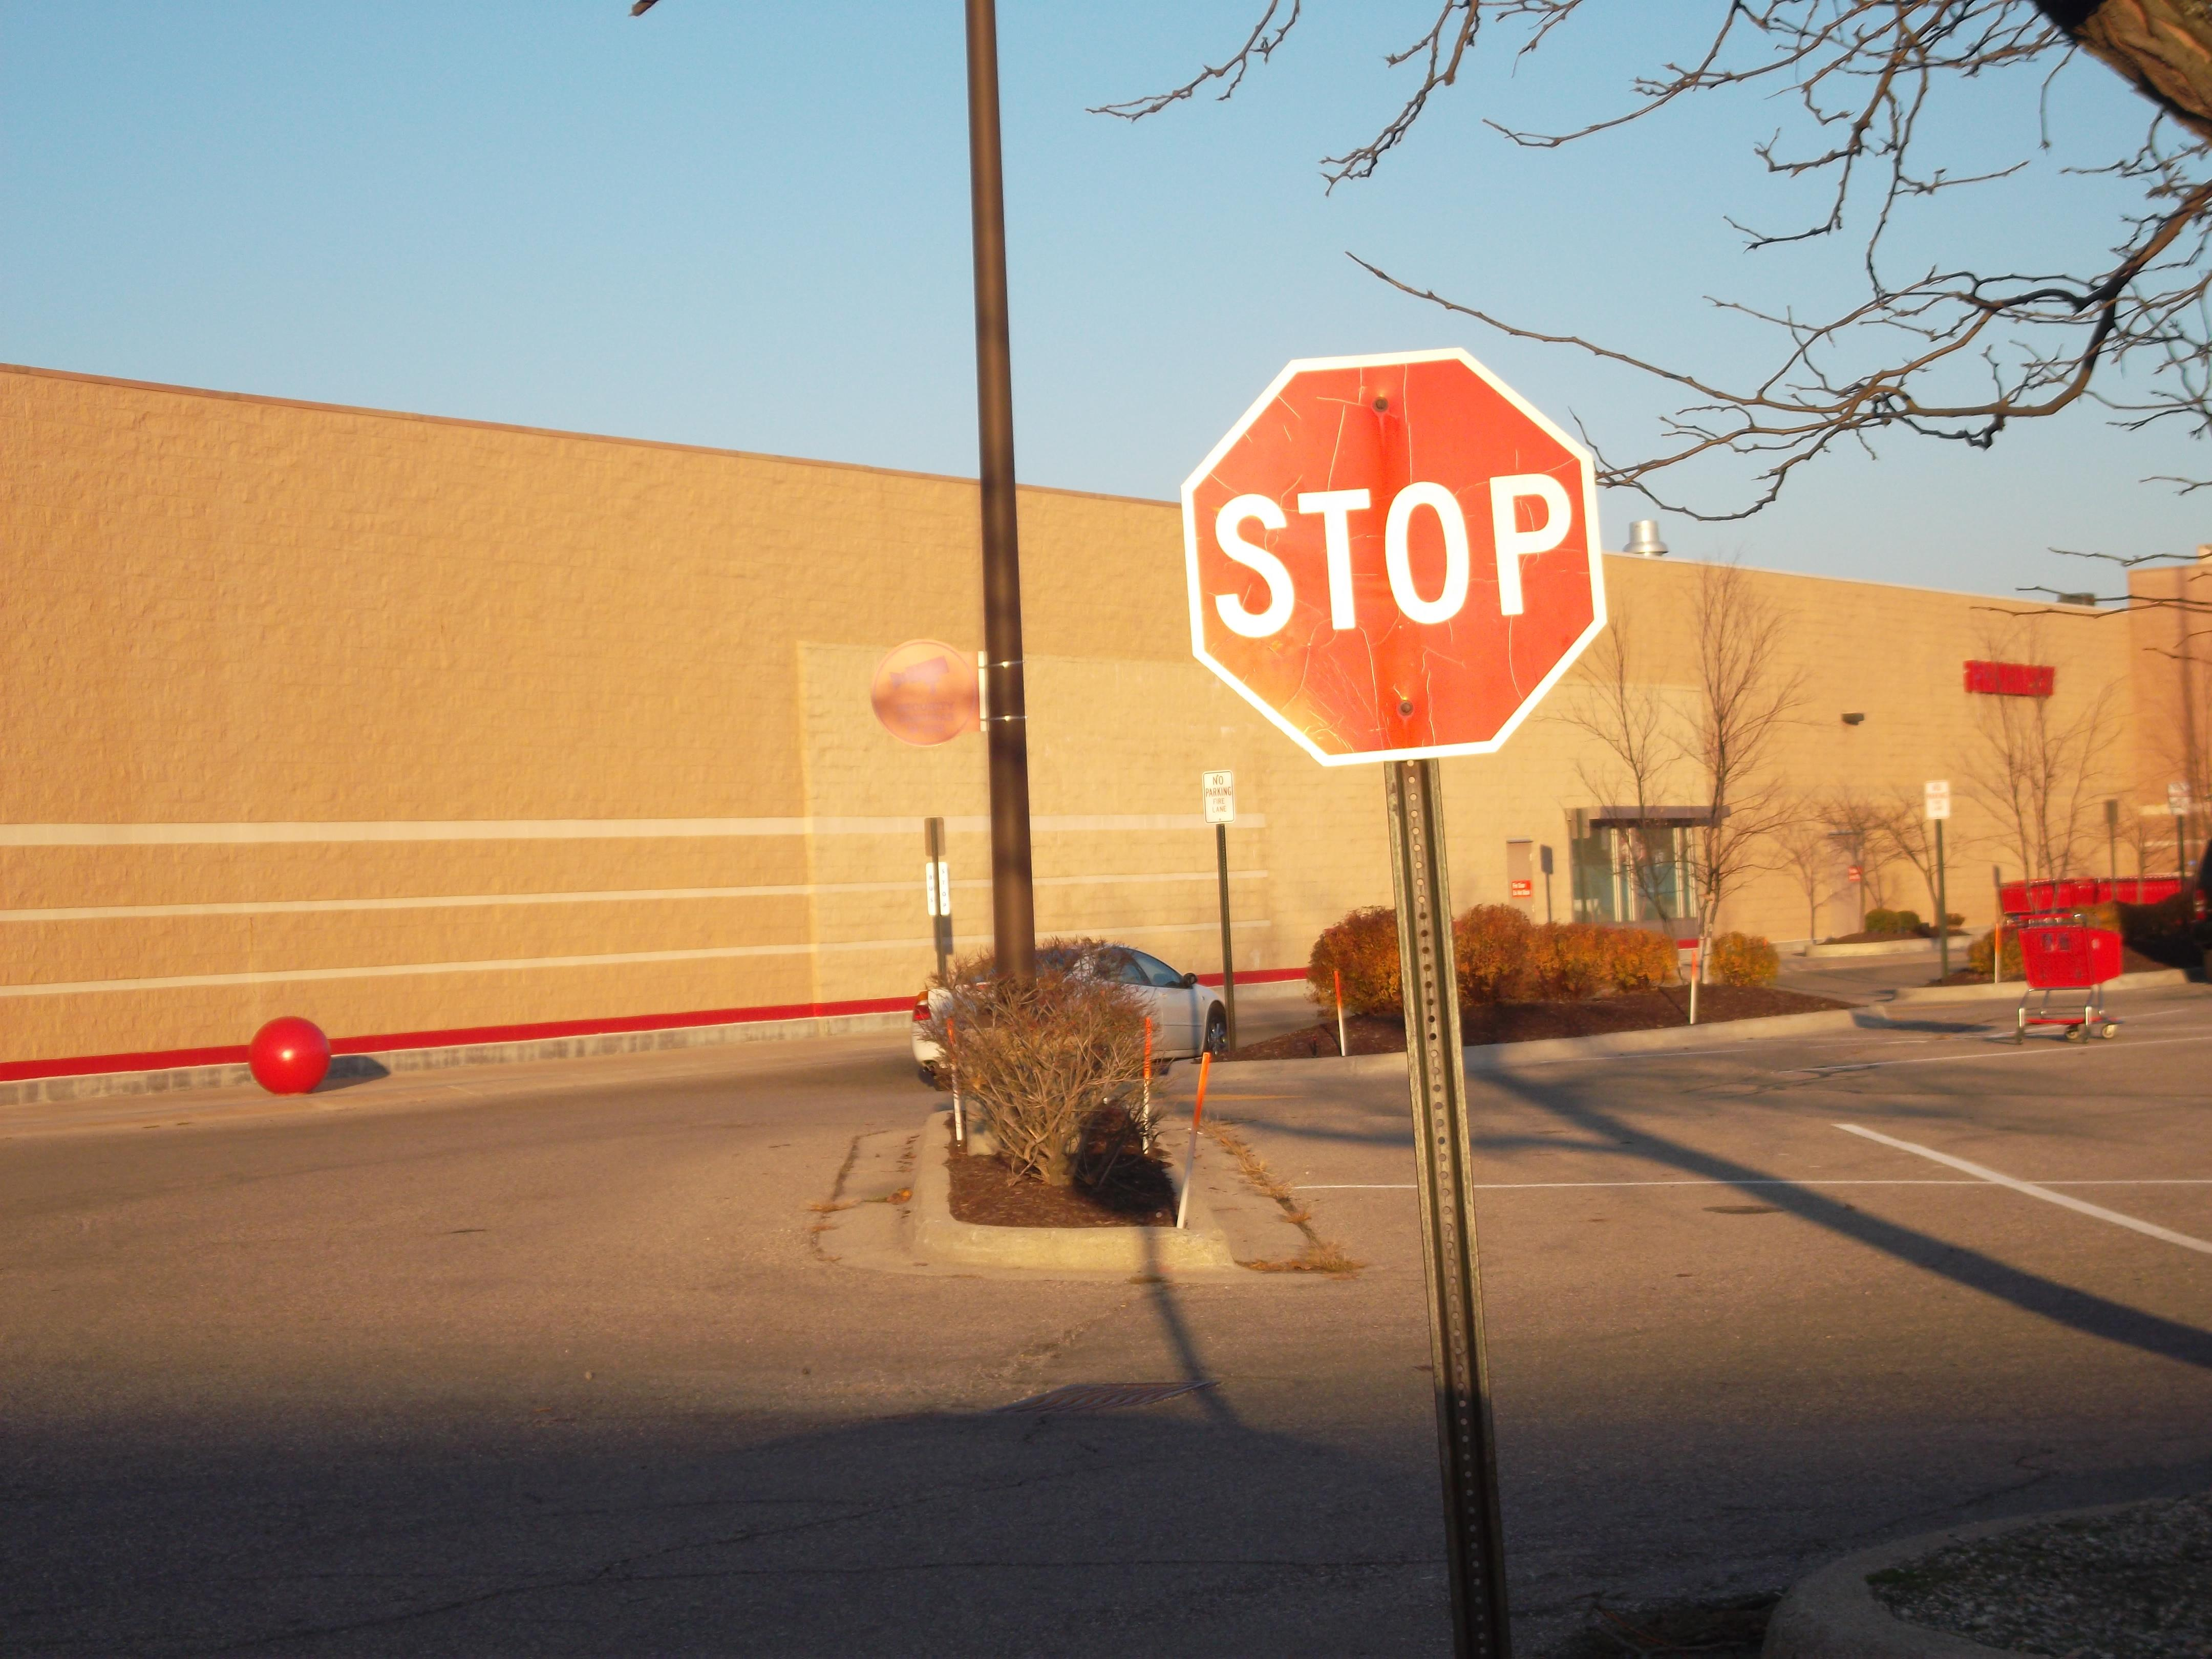stop: (1179, 352, 1618, 770)
